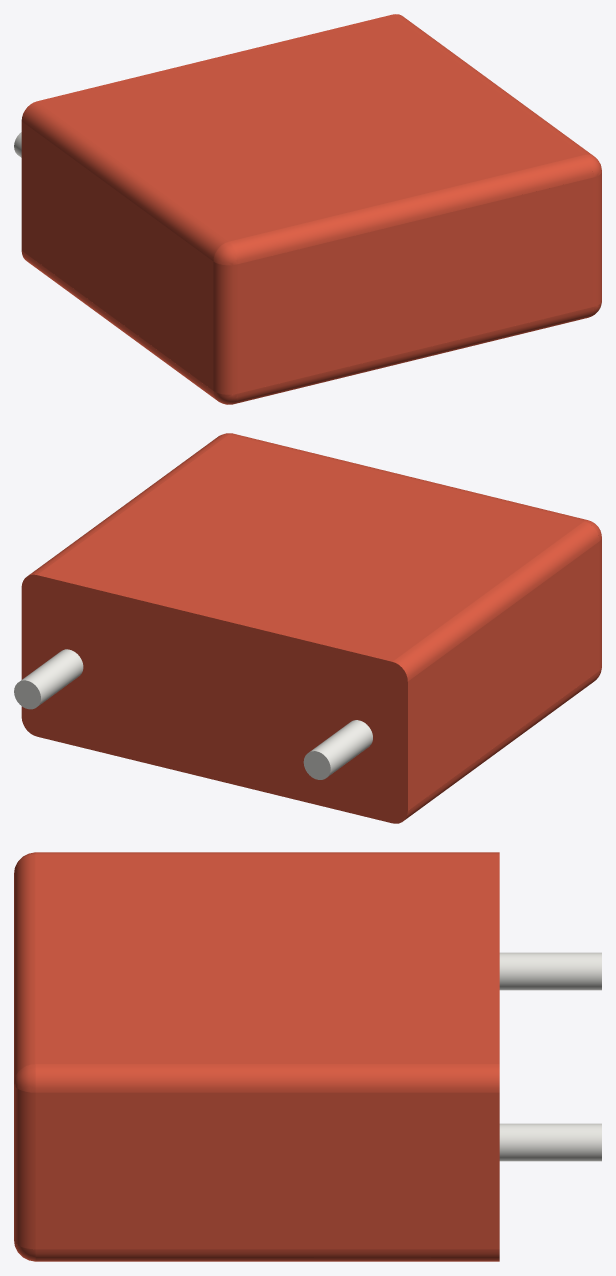
The model's file is C_Rect_L10.0mm_W4.0mm_P7.50mm_MKS4.glb.
The picture shows the model from 3 angles, top to bottom: view 1: azimuth 30°, elevation 25°; view 2: azimuth 150°, elevation 25°; view 3: azimuth 270°, elevation 25°; orthographic projection. The views are drawn at different scales.
Visible parts, largest first — view 1: Shape_IndexedFaceSet.009, Shape_IndexedFaceSet.007, Shape_IndexedFaceSet, Shape_IndexedFaceSet.016, Shape_IndexedFaceSet.004, Shape_IndexedFaceSet.015, Shape_IndexedFaceSet.002, Shape_IndexedFaceSet.001, Shape_IndexedFaceSet.011, Shape_IndexedFaceSet.017; view 2: Shape_IndexedFaceSet.009, Shape_IndexedFaceSet.003, Shape_IndexedFaceSet, Shape_IndexedFaceSet.004, Shape_IndexedFaceSet.014, Shape_IndexedFaceSet.013, Shape_IndexedFaceSet.001, Shape_IndexedFaceSet.011, Shape_IndexedFaceSet.016, Shape_IndexedFaceSet.020, Shape_IndexedFaceSet.021; view 3: Shape_IndexedFaceSet.009, Shape_IndexedFaceSet.012, Shape_IndexedFaceSet.011, Shape_IndexedFaceSet.010, Shape_IndexedFaceSet.016, Shape_IndexedFaceSet.013, Shape_IndexedFaceSet.014, Shape_IndexedFaceSet.017, Shape_IndexedFaceSet.004.
Boxes of the visible parts, x1,y1,x2,y2 form: Shape_IndexedFaceSet.009: (37, 14, 583, 241); Shape_IndexedFaceSet.007: (237, 177, 592, 393); Shape_IndexedFaceSet: (21, 121, 213, 390); Shape_IndexedFaceSet.016: (229, 155, 592, 263); Shape_IndexedFaceSet.004: (21, 101, 228, 260); Shape_IndexedFaceSet.015: (234, 307, 592, 403); Shape_IndexedFaceSet.002: (213, 261, 237, 394); Shape_IndexedFaceSet.001: (21, 251, 216, 399); Shape_IndexedFaceSet.011: (393, 14, 592, 155); Shape_IndexedFaceSet.017: (593, 172, 601, 306); Shape_IndexedFaceSet.009: (37, 435, 583, 661); Shape_IndexedFaceSet.003: (21, 574, 407, 823); Shape_IndexedFaceSet: (408, 541, 599, 810); Shape_IndexedFaceSet.004: (392, 521, 599, 681); Shape_IndexedFaceSet.014: (20, 649, 83, 705); Shape_IndexedFaceSet.013: (310, 720, 372, 776); Shape_IndexedFaceSet.001: (405, 671, 599, 819); Shape_IndexedFaceSet.011: (28, 434, 228, 575); Shape_IndexedFaceSet.016: (229, 433, 587, 521); Shape_IndexedFaceSet.020: (303, 751, 330, 779); Shape_IndexedFaceSet.021: (14, 680, 40, 709); Shape_IndexedFaceSet.009: (35, 854, 499, 1063); Shape_IndexedFaceSet.012: (35, 1092, 499, 1249); Shape_IndexedFaceSet.011: (35, 1064, 499, 1092); Shape_IndexedFaceSet.010: (35, 1249, 499, 1261); Shape_IndexedFaceSet.016: (14, 854, 35, 1081); Shape_IndexedFaceSet.013: (499, 952, 601, 990); Shape_IndexedFaceSet.014: (499, 1123, 601, 1161); Shape_IndexedFaceSet.017: (14, 1084, 35, 1249); Shape_IndexedFaceSet.004: (35, 852, 499, 854).
Size of the model in its own units: 3.94 by 1.57 by 4.29.
